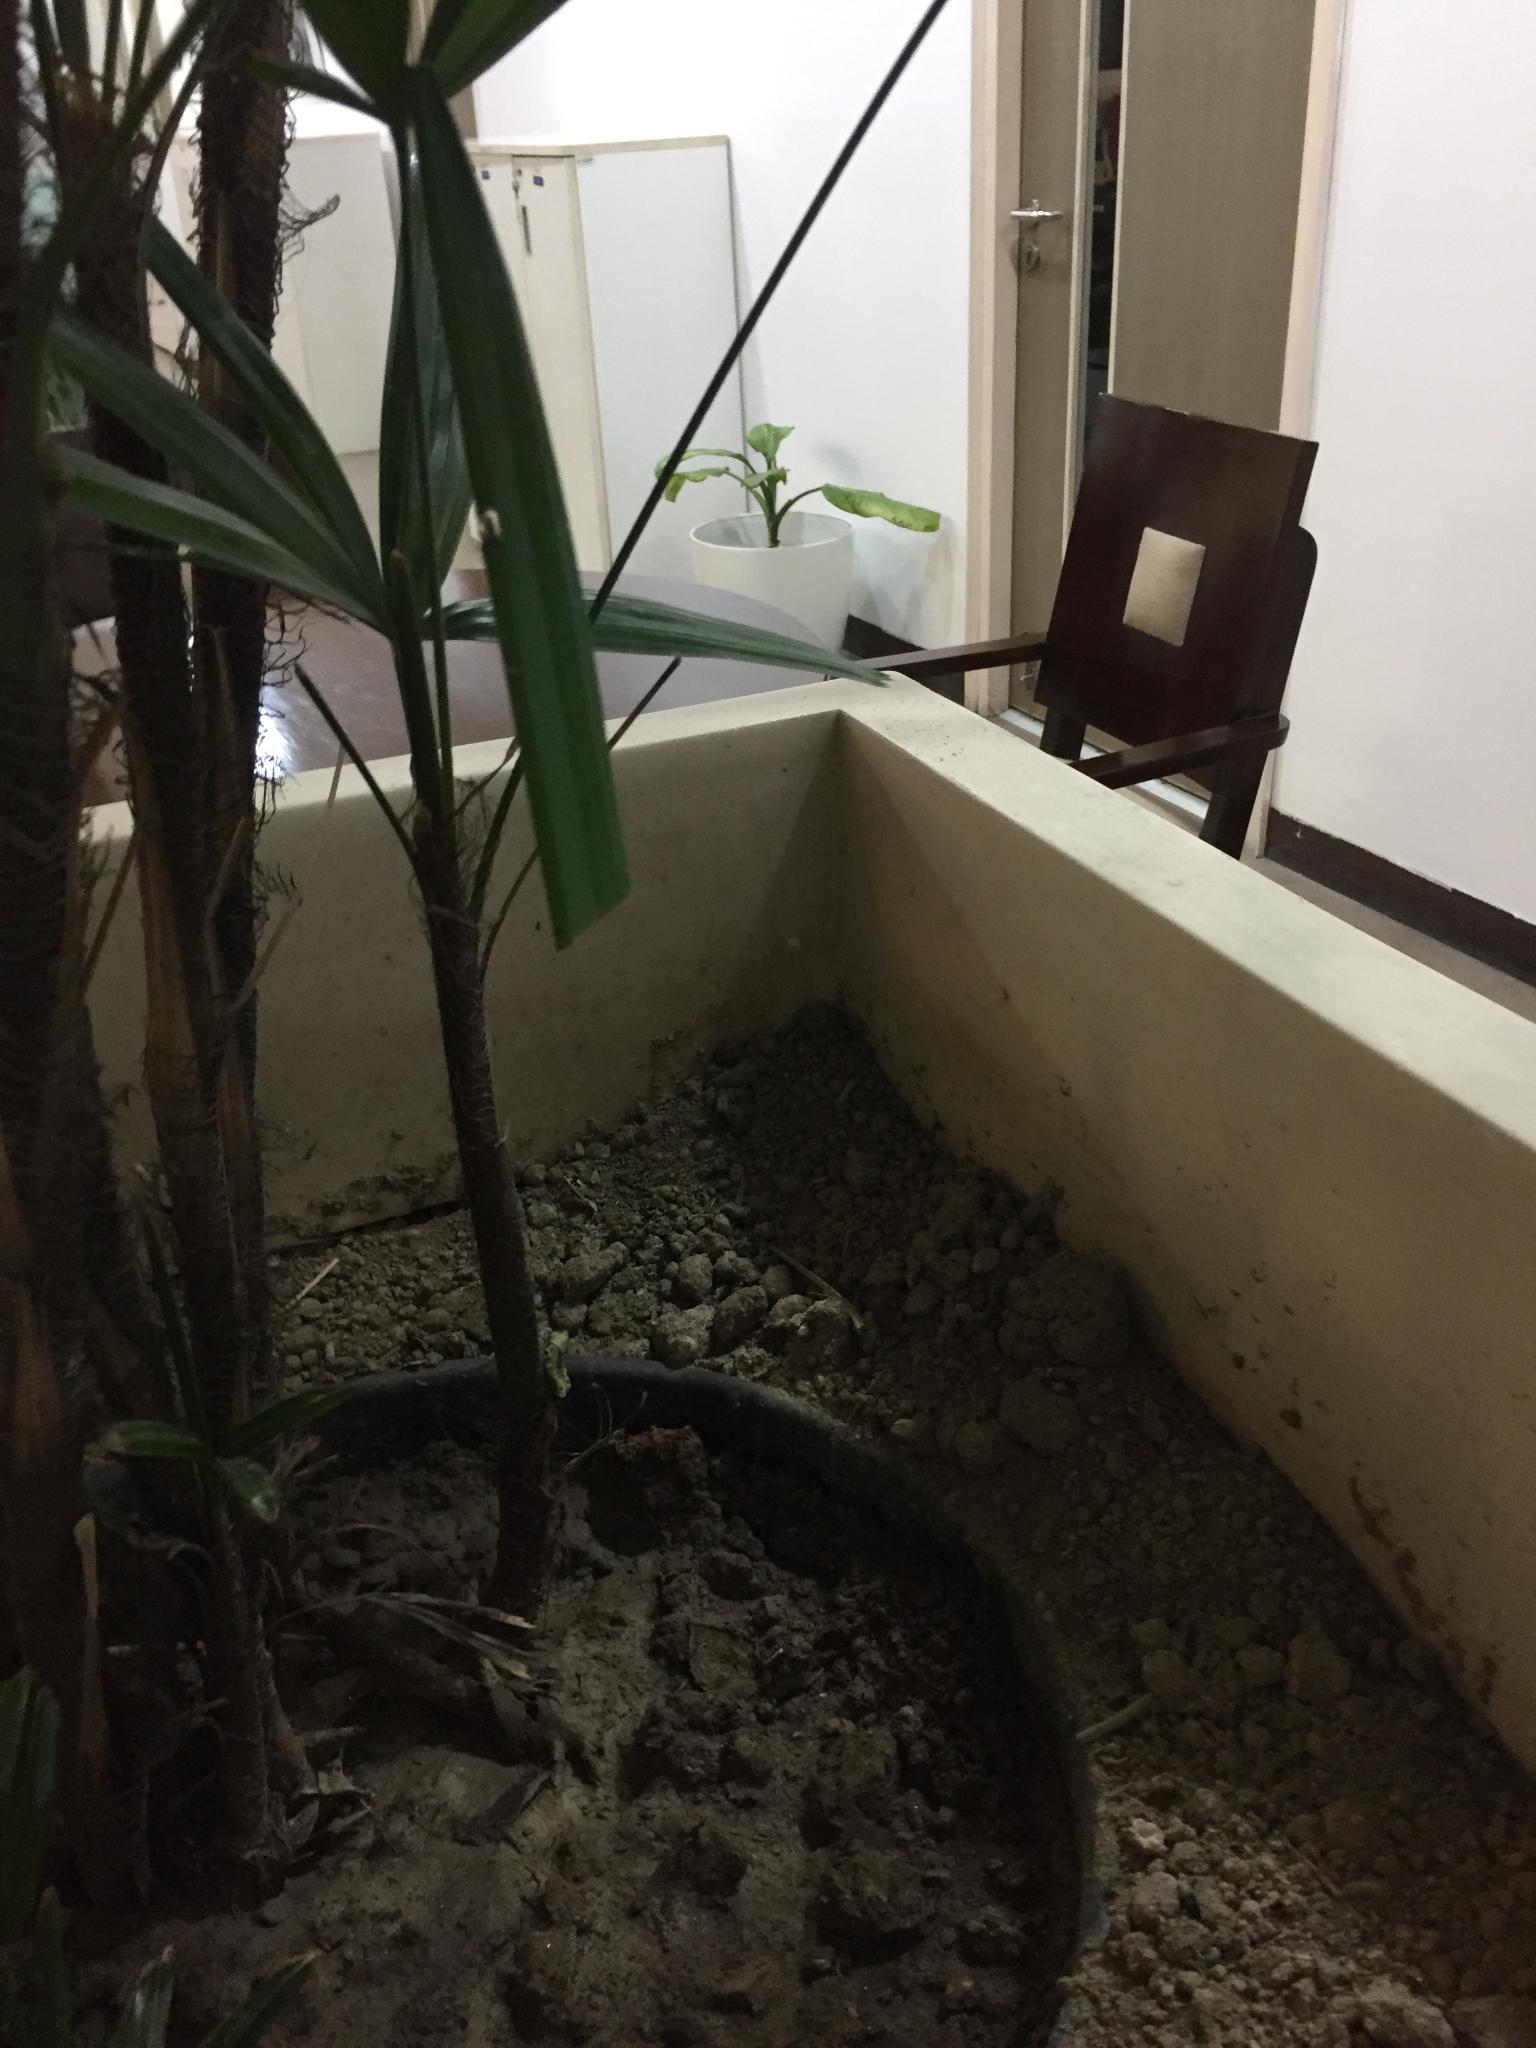chair: (852, 390, 1320, 861)
